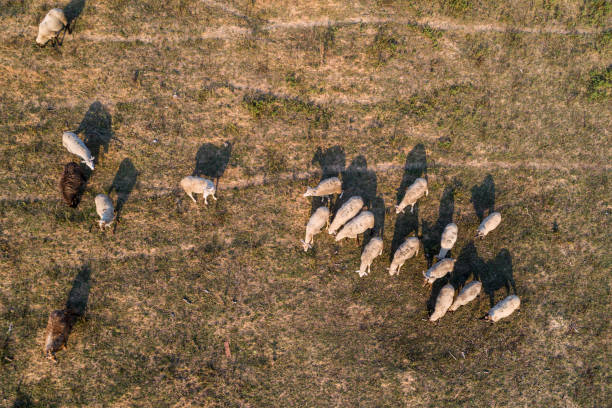sheep: (63, 130, 102, 171), (334, 211, 376, 248), (33, 5, 68, 48), (58, 163, 89, 210), (324, 196, 363, 233), (39, 304, 63, 364), (395, 174, 426, 220), (483, 292, 521, 329), (178, 173, 217, 208), (301, 174, 346, 202), (89, 192, 119, 231), (448, 281, 485, 312), (356, 239, 385, 278), (470, 211, 506, 242), (429, 285, 456, 326), (301, 205, 325, 250), (419, 258, 461, 281), (386, 238, 413, 273), (438, 224, 460, 253)
